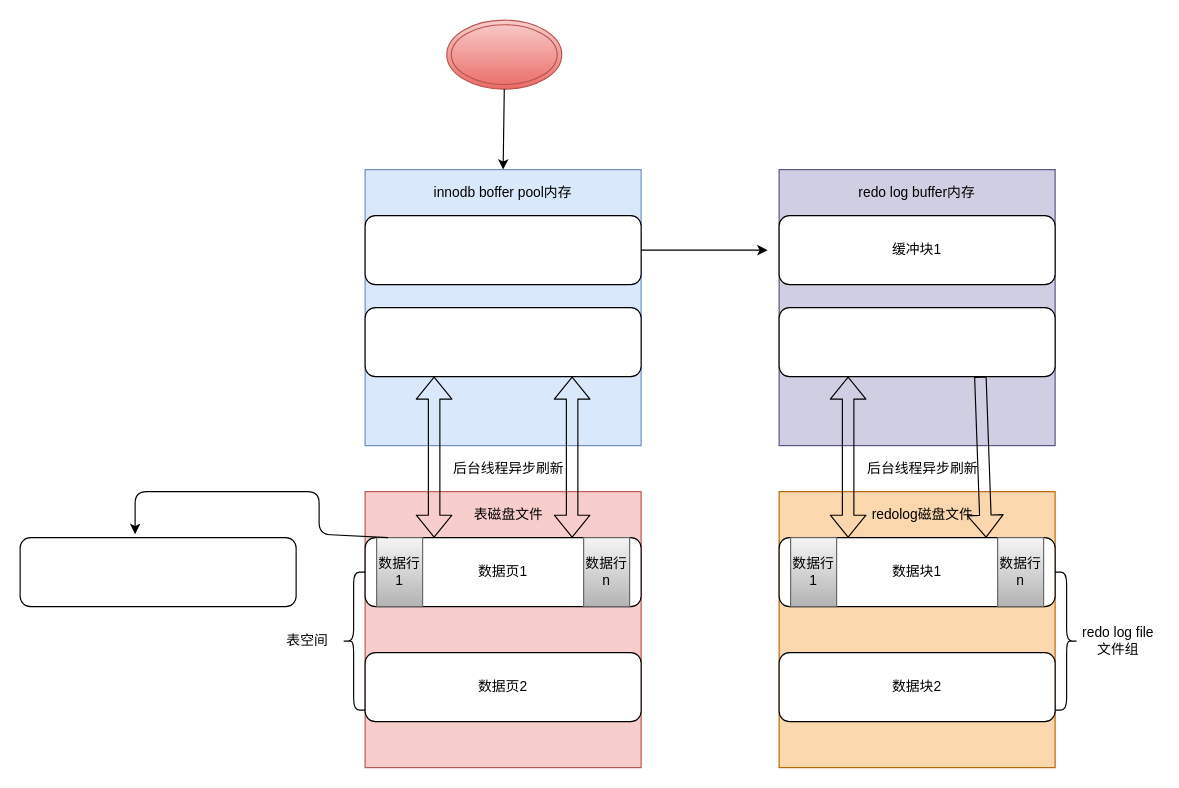
The diagram is 1179 pixels wide and 788 high, and some of its shapes have lost their labels. Each missing label, with the centre of its shape:
"update更新语句" belongs at (x=504, y=54).
"数据行" belongs at (x=157, y=571).
"缓冲块2" belongs at (x=916, y=341).
"缓冲页1" belongs at (x=502, y=249).
"缓冲页2" belongs at (x=502, y=341).
